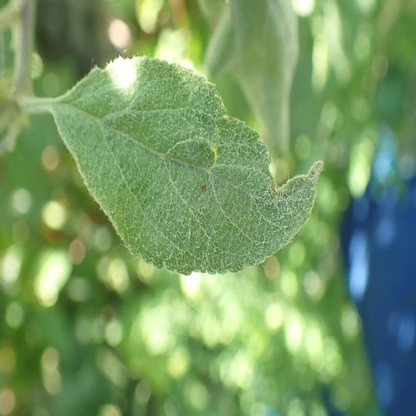frogeye_leaf_spot: (201, 184, 206, 192)
powdery_mildew: (53, 54, 323, 276)
